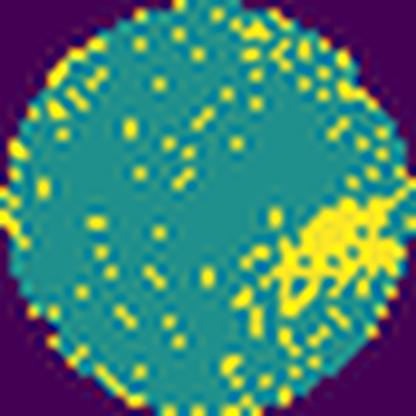Edge-Loc: (258, 186, 408, 321)
